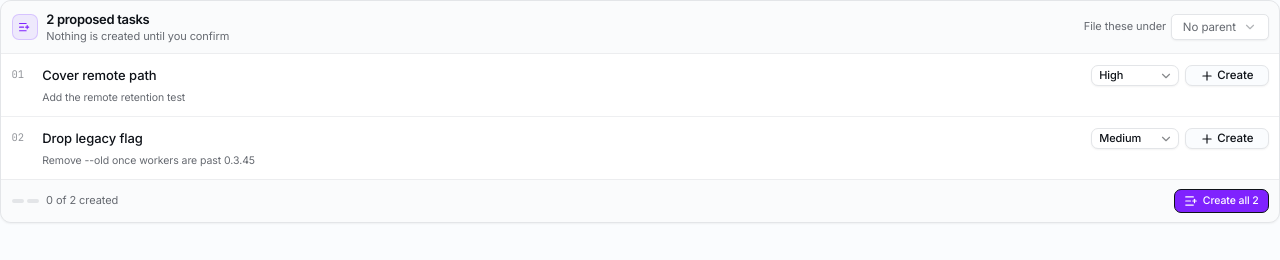
it: TaskProposalUI › keeps the row editable and offers a retry when create fails
Click the button "Create" in the row of "01" at (1226, 76), box [1184,65,1268,86]
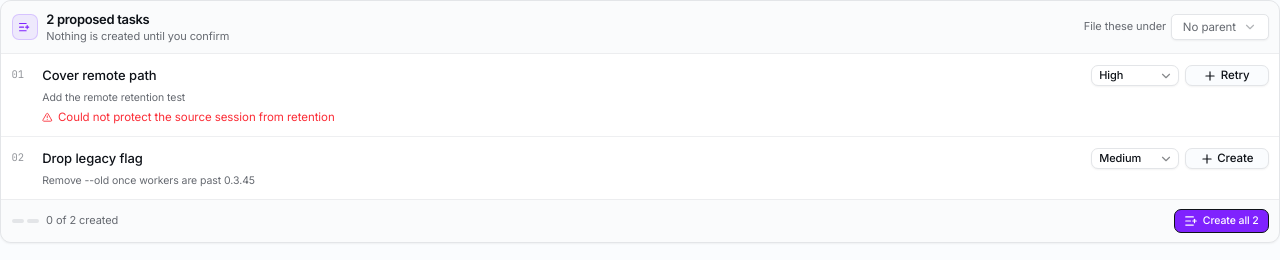
Now the text "Could not protect the source session" is shown, box [58,110,335,124]
